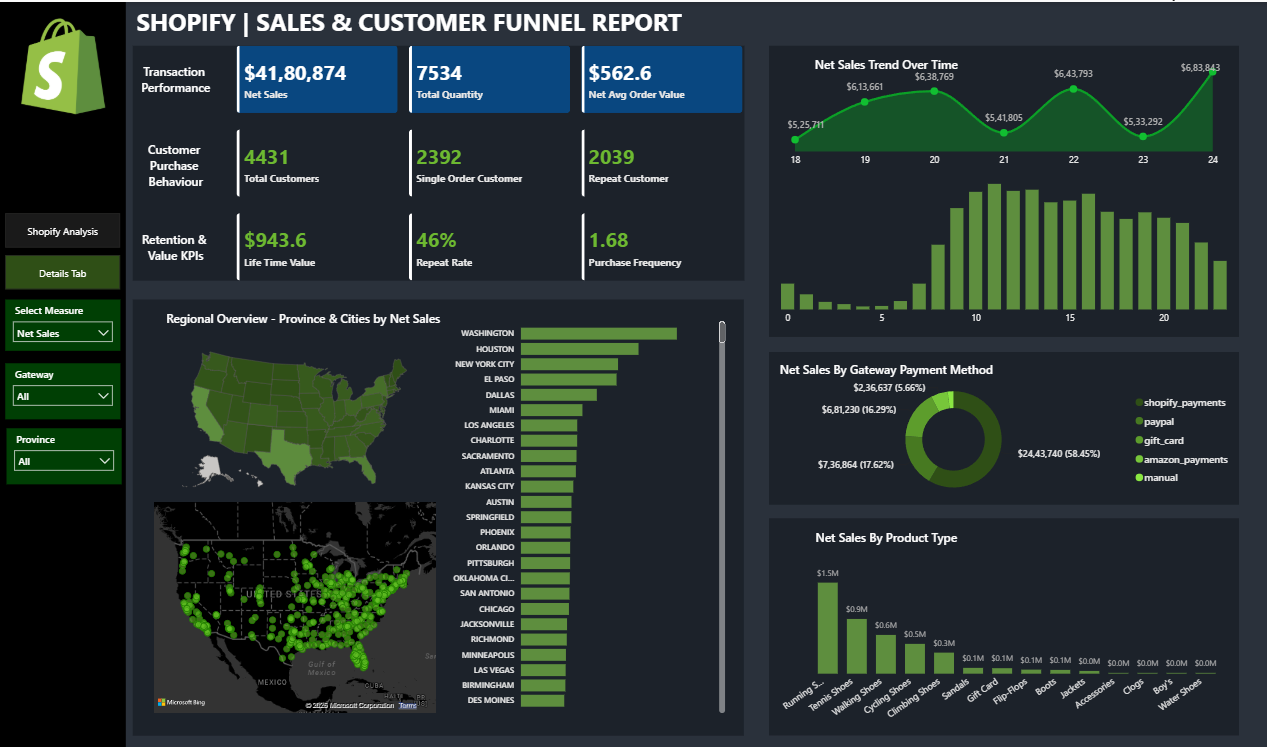

Layout of this report page (visuals, bound fields, positions):
{"tool":"powerbi","page":{"name":"Shopify Analysis","canvas":[1700,1000],"ordinal":0},"visuals":[{"type":"shape","box":[0,0,170,999],"z":0},{"type":"textbox","box":[179.3,0,762.4,58.6],"z":1000},{"type":"shape","box":[179,59,820,315],"z":2000},{"type":"cardVisual","fields":{"Data":["shopify_sales.Net Sales","shopify_sales.Total Quantity","shopify_sales.Net Avg Order Value"]},"box":[318.4,58.6,680.3,90.5],"z":3000},{"type":"card","fields":{"Values":["shopify_sales.Transaction Pref"]},"box":[179.3,58.6,115.6,90.5],"z":4000},{"type":"cardVisual","fields":{"Data":["shopify_sales.Total Customers","shopify_sales.Single Order Customer","shopify_sales.Repeat Customer"]},"box":[318.4,170.9,680.3,90.5],"z":5000},{"type":"card","fields":{"Values":["shopify_sales.Customer Purchase Behaviour"]},"box":[179.3,170.9,115.6,90.5],"z":6000},{"type":"cardVisual","fields":{"Data":["shopify_sales.Life Time Value","shopify_sales.Repeat Rate","shopify_sales.Purchase Frequency"]},"box":[318.4,283.2,680.3,90.5],"z":7000},{"type":"card","fields":{"Values":["shopify_sales.Retention & Value KPIs"]},"box":[179.3,283.2,115.6,90.5],"z":8000},{"type":"shape","box":[179.3,398.8,819.4,584.8],"z":9000},{"type":"slicer","fields":{"Values":["Select Measure.Select Measure"]},"box":[8.4,398.8,154.2,68.7],"z":10000},{"type":"shapeMap","fields":{"Value":["shopify_sales.Net Sales"],"Category":["shopify_sales.Billing Address Province"]},"box":[202.7,454.1,387.1,211.1],"z":11000},{"type":"map","fields":{"Category":["shopify_sales.Location"]},"box":[202.7,665.2,387.1,293.2],"z":12000},{"type":"clusteredBarChart","fields":{"Category":["shopify_sales.CITY"],"Y":["shopify_sales.Net Sales"]},"box":[589.8,415.6,388.7,542.9],"z":12001},{"type":"card","fields":{"Values":["shopify_sales.Map Title"]},"box":[179.3,398.8,457.4,55.3],"z":12002},{"type":"shape","box":[1032.2,58.6,630,390.4],"z":12003},{"type":"areaChart","fields":{"Category":["shopify_sales.Invoice Date.Variation.Date Hierarchy.Day"],"Y":["shopify_sales.Net Sales"]},"box":[1052.3,70.4,589.8,159.2],"z":12004},{"type":"columnChart","fields":{"Category":["shopify_sales.Hour"],"Y":["shopify_sales.Net Sales"]},"box":[1042.2,212.8,609.9,229.6],"z":12005},{"type":"card","fields":{"Values":["shopify_sales.Trend Title"]},"box":[1032.2,58.6,315,55.3],"z":12006},{"type":"shape","box":[1032.2,469.2,630,205],"z":12007},{"type":"donutChart","fields":{"Category":["shopify_sales.Gateway"],"Y":["shopify_sales.Net Sales"]},"box":[1032.2,499.3,630,174.3],"z":12008},{"type":"card","fields":{"Values":["shopify_sales.Gateway Title"]},"box":[1032.2,467.5,315,55.3],"z":12009},{"type":"shape","box":[1032.2,692,630,291.6],"z":12010},{"type":"columnChart","fields":{"Category":["shopify_sales.Product Type"],"Y":["shopify_sales.Net Sales"]},"box":[1042.2,720.5,609.9,263.1],"z":12011},{"type":"card","fields":{"Values":["shopify_sales.Product Title"]},"box":[1032.2,692,315,55.3],"z":12012},{"type":"image","box":[3.4,21.8,165.9,129],"z":12013},{"type":"slicer","fields":{"Values":["shopify_sales.Gateway"]},"box":[8.4,484.3,154.2,75.4],"z":12014},{"type":"slicer","fields":{"Values":["shopify_sales.Billing Address Province"]},"box":[10.1,571.4,154.2,75.4],"z":12015},{"type":"pageNavigator","box":[8.4,283.2,154.2,103.9],"z":12016}]}

Visuals, with their boxes on the page's 1700x1000 design canvas (x1, y1, x2, y2). These are canvas units, not pixel positions in the 1267x747 screenshot, which may show the page scaled, cropped or inside an application window:
shape: bbox=[0, 0, 170, 999]
textbox: bbox=[179, 0, 942, 59]
shape: bbox=[179, 59, 999, 374]
cardVisual - shopify_sales.Net Sales x shopify_sales.Total Quantity: bbox=[318, 59, 999, 149]
card - shopify_sales.Transaction Pref: bbox=[179, 59, 295, 149]
cardVisual - shopify_sales.Total Customers x shopify_sales.Single Order Customer: bbox=[318, 171, 999, 261]
card - shopify_sales.Customer Purchase Behaviour: bbox=[179, 171, 295, 261]
cardVisual - shopify_sales.Life Time Value x shopify_sales.Repeat Rate: bbox=[318, 283, 999, 374]
card - shopify_sales.Retention & Value KPIs: bbox=[179, 283, 295, 374]
shape: bbox=[179, 399, 999, 984]
slicer - Select Measure.Select Measure: bbox=[8, 399, 163, 468]
shapeMap - shopify_sales.Net Sales x shopify_sales.Billing Address Province: bbox=[203, 454, 590, 665]
map - shopify_sales.Location: bbox=[203, 665, 590, 958]
clusteredBarChart - shopify_sales.CITY x shopify_sales.Net Sales: bbox=[590, 416, 978, 958]
card - shopify_sales.Map Title: bbox=[179, 399, 637, 454]
shape: bbox=[1032, 59, 1662, 449]
areaChart - shopify_sales.Invoice Date.Variation.Date Hierarchy.Day x shopify_sales.Net Sales: bbox=[1052, 70, 1642, 230]
columnChart - shopify_sales.Hour x shopify_sales.Net Sales: bbox=[1042, 213, 1652, 442]
card - shopify_sales.Trend Title: bbox=[1032, 59, 1347, 114]
shape: bbox=[1032, 469, 1662, 674]
donutChart - shopify_sales.Gateway x shopify_sales.Net Sales: bbox=[1032, 499, 1662, 674]
card - shopify_sales.Gateway Title: bbox=[1032, 468, 1347, 523]
shape: bbox=[1032, 692, 1662, 984]
columnChart - shopify_sales.Product Type x shopify_sales.Net Sales: bbox=[1042, 720, 1652, 984]
card - shopify_sales.Product Title: bbox=[1032, 692, 1347, 747]
image: bbox=[3, 22, 169, 151]
slicer - shopify_sales.Gateway: bbox=[8, 484, 163, 560]
slicer - shopify_sales.Billing Address Province: bbox=[10, 571, 164, 647]
pageNavigator: bbox=[8, 283, 163, 387]
